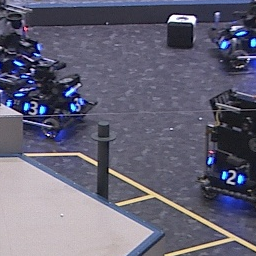Blue: (220, 168, 244, 187), (23, 101, 46, 117), (226, 20, 247, 36), (69, 97, 85, 113)
Robot: (1, 61, 99, 139), (196, 88, 256, 208), (210, 2, 256, 70)
